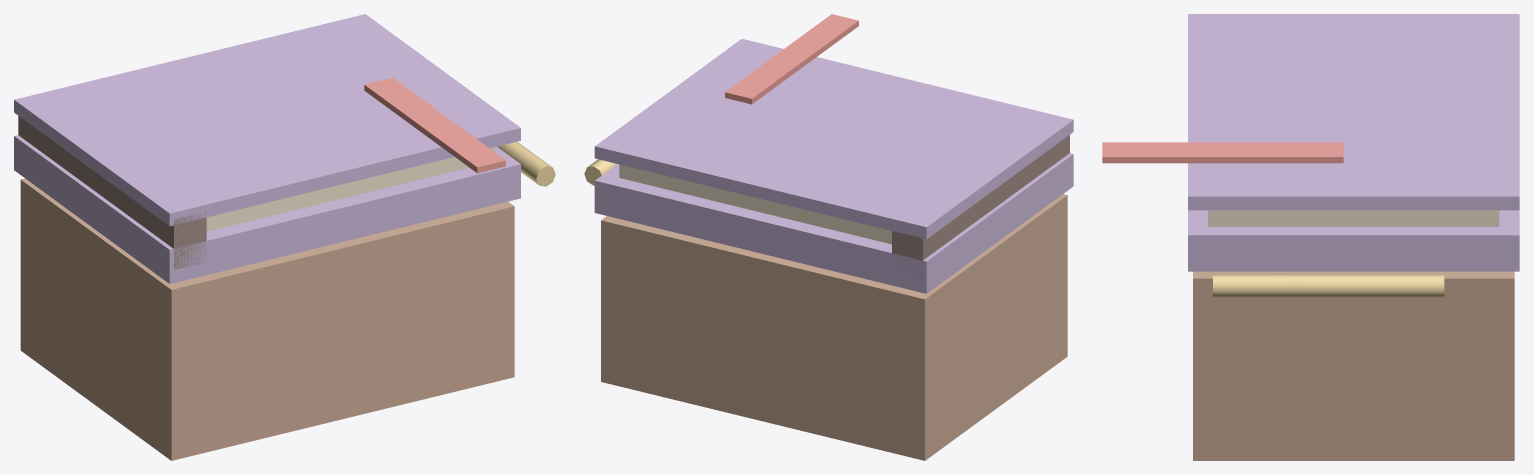
Rendered from 06_libro_visitas.glb.
3 views of the same model, side by side, from view 1: azimuth 30°, elevation 25°; view 2: azimuth 150°, elevation 25°; view 3: azimuth 270°, elevation 25° (orthographic). The views are drawn at different scales.
Visible parts, largest first — view 1: body (×6); view 2: body (×5); view 3: body (×5).
Part boxes in pixels (left/top/right/bottom): body (×6): left=14, top=14, right=555, bottom=460; body (×5): left=594, top=14, right=1073, bottom=460; body (×5): left=1102, top=14, right=1519, bottom=460.
Size of the model in its own units: 0.487 by 0.3045 by 0.415.
